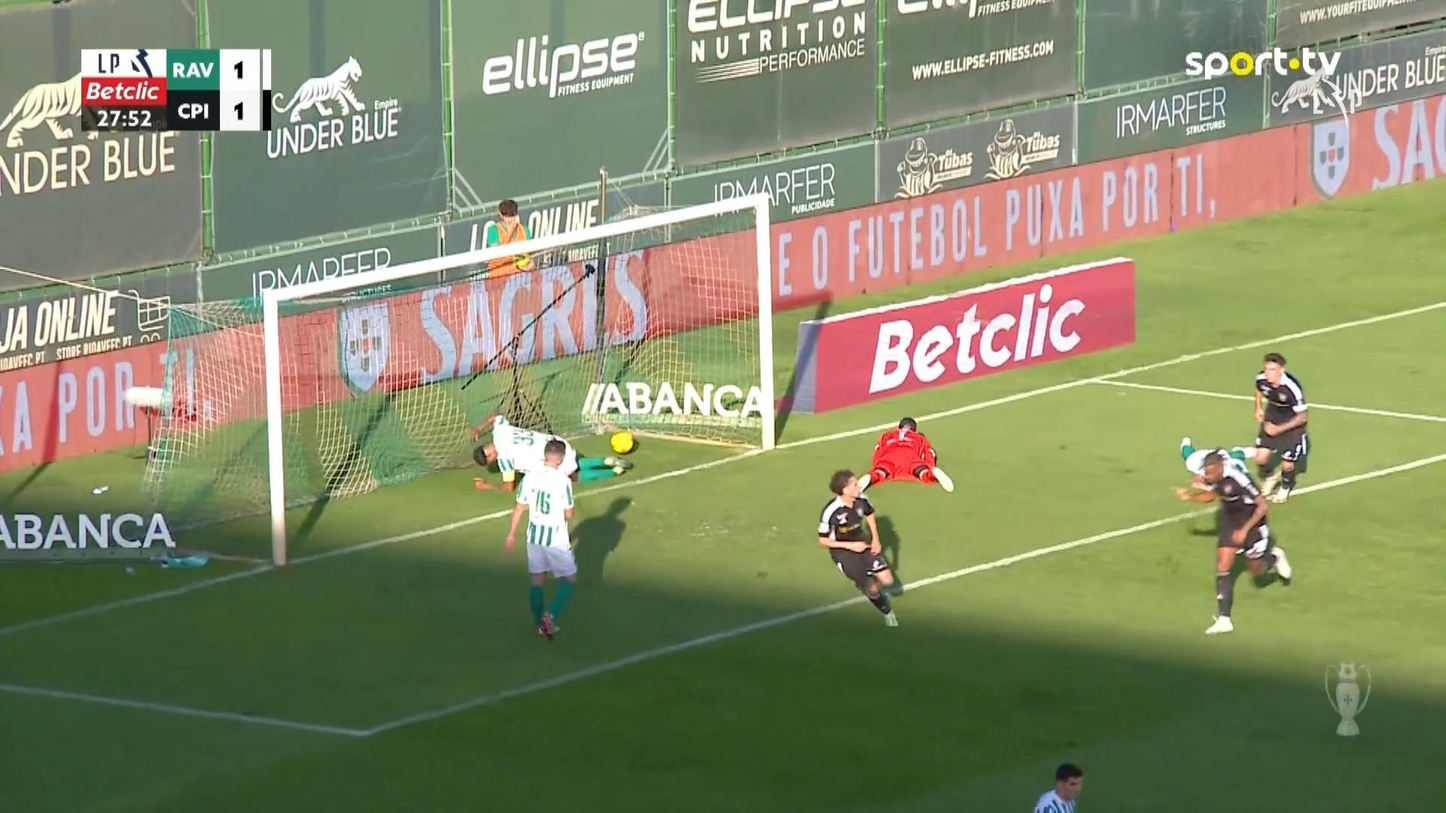ball: (609, 430, 634, 454)
goalkeeper: (853, 416, 955, 499)
player: (1173, 435, 1292, 635), (504, 439, 578, 639), (816, 468, 903, 627), (468, 412, 635, 492), (1252, 351, 1310, 504), (1178, 436, 1279, 502), (1033, 761, 1084, 811)
